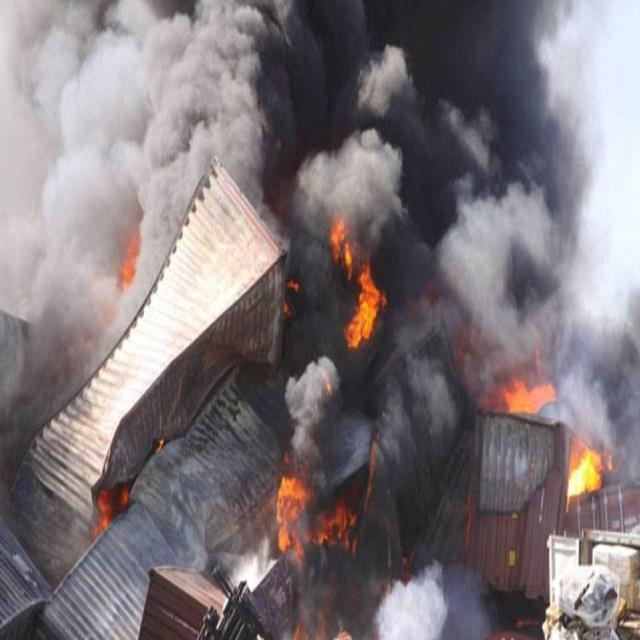Fire: (274, 434, 376, 564), (324, 216, 386, 350), (566, 436, 614, 498), (90, 482, 130, 540), (505, 377, 557, 414), (282, 277, 300, 317)
Smoke: (1, 1, 640, 491), (371, 561, 502, 640), (228, 530, 272, 592)
